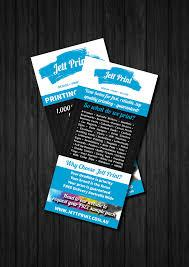Printing industry: (19, 20, 164, 237)
